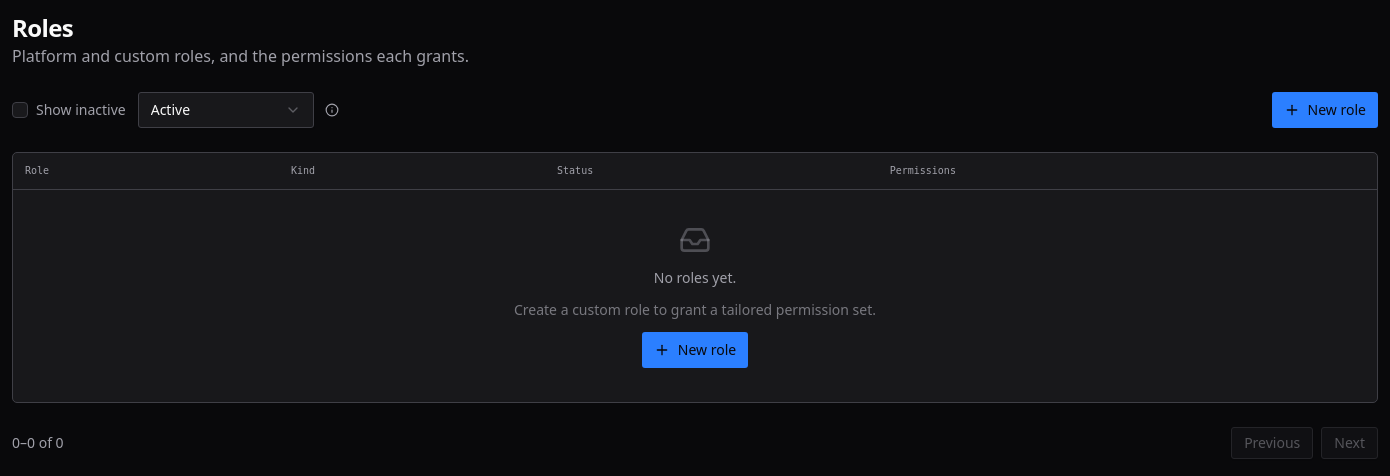
it: RolesListPage — deleted view › restores a row through the Restore action
Click the dropdown named "which roles to show".
click(226, 110)  # box 138,92 -> 314,128
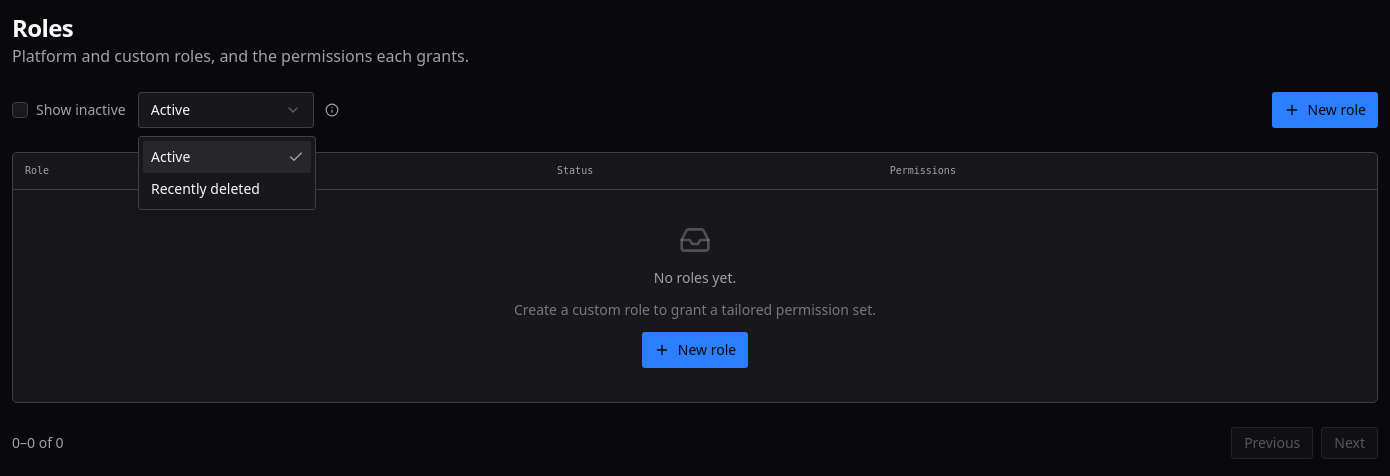
Click the option "Recently deleted".
click(205, 188)  # box 151,179 -> 260,198
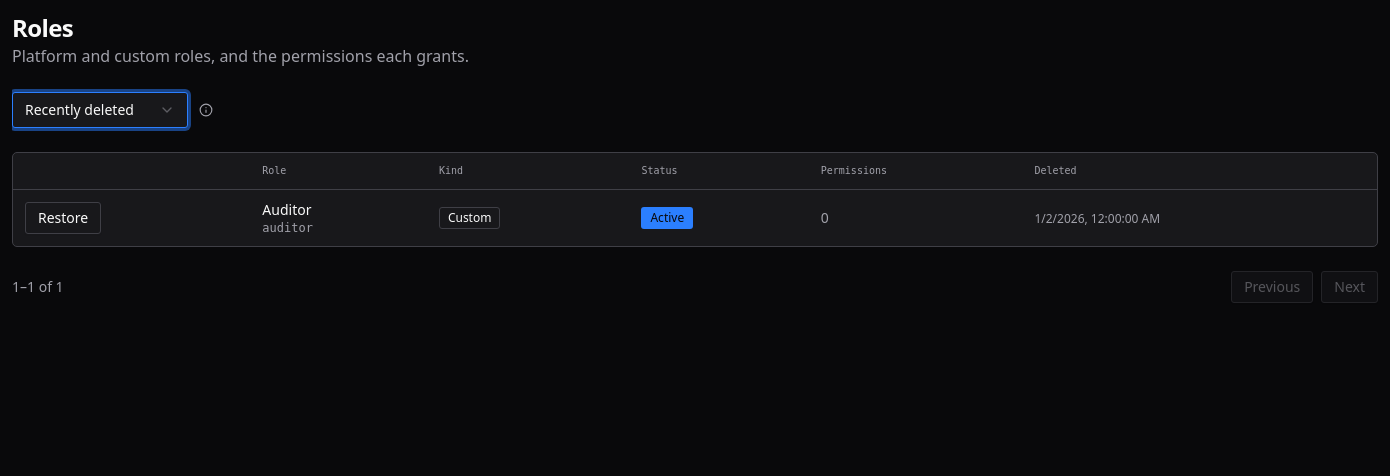
Check: the button "Restore" is shown
Click the button "Restore".
click(63, 218)  # box 25,202 -> 101,234
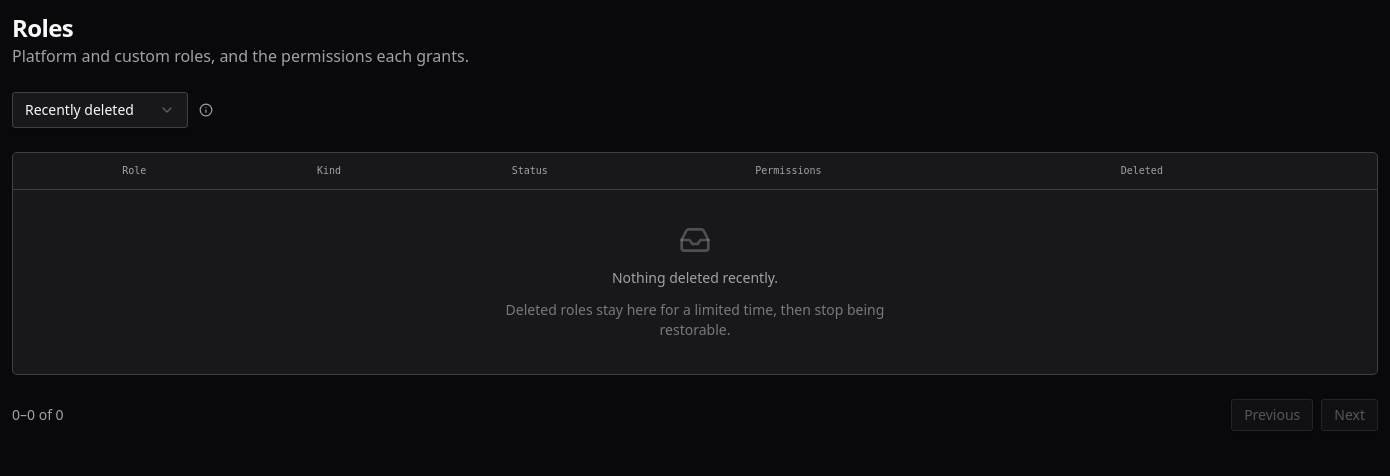
Check: the button "Restore" is gone
